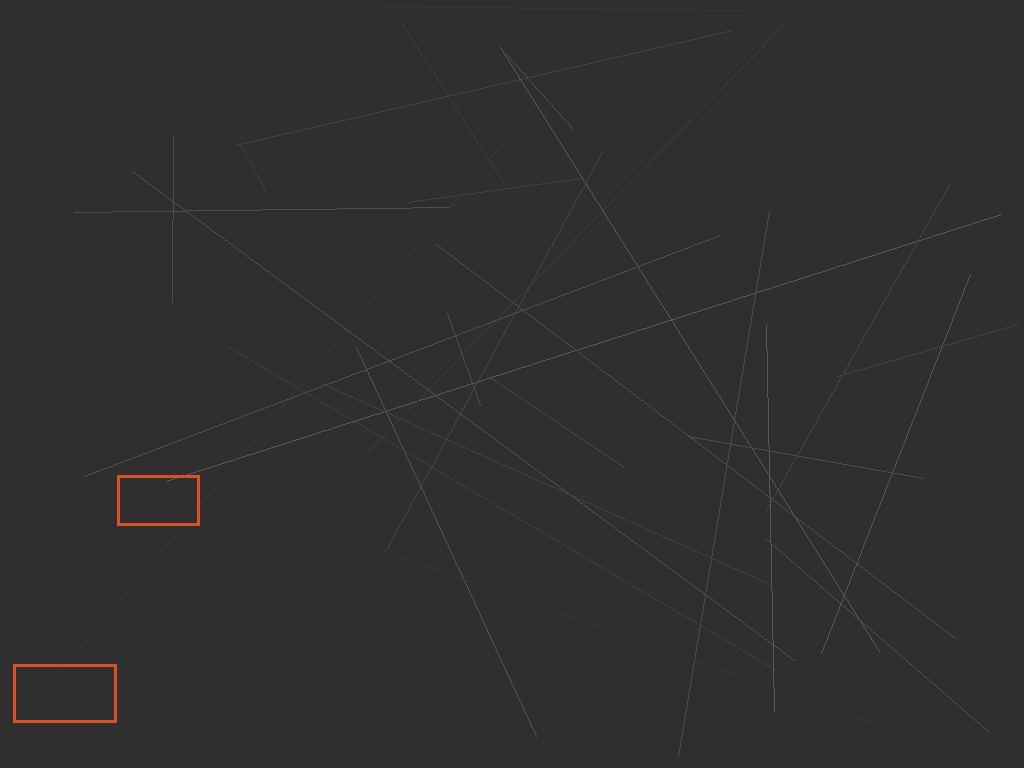D00: (117, 475, 199, 525)
D20: (13, 664, 116, 722)
